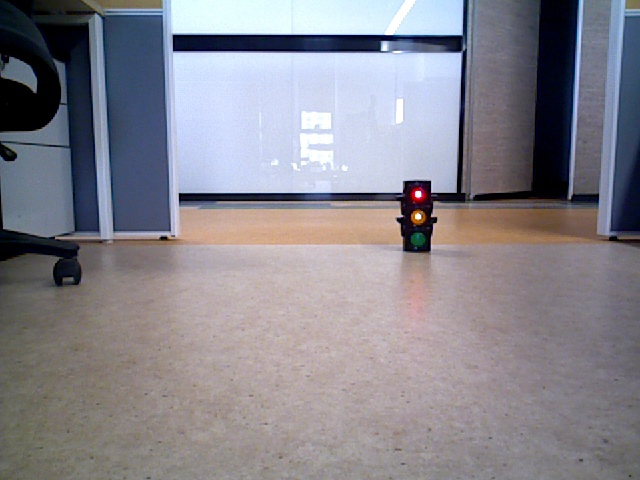red: (401, 183, 433, 251)
